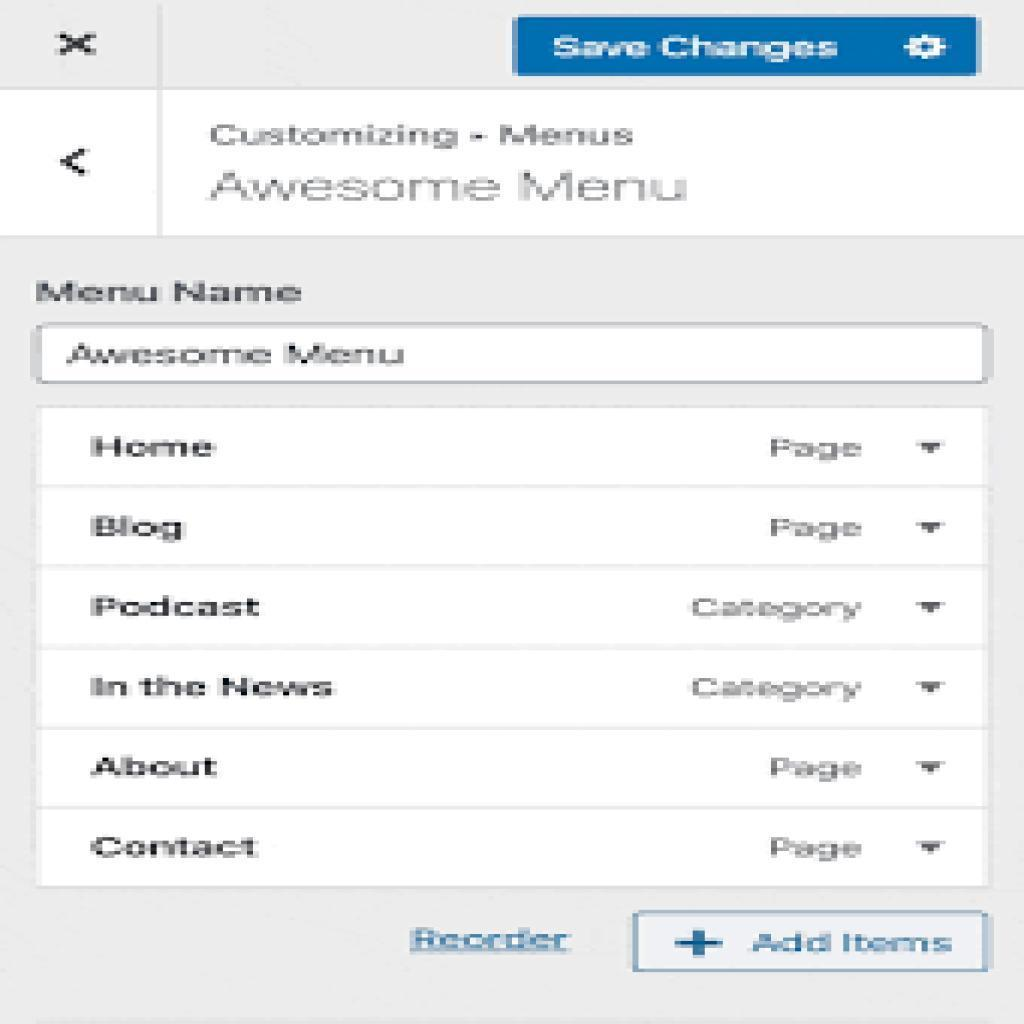button: (517, 15, 980, 77), (637, 914, 986, 970)
icon: (48, 142, 103, 189), (52, 28, 107, 64), (911, 435, 952, 470), (918, 754, 951, 789), (913, 596, 948, 628), (915, 514, 950, 544), (916, 837, 952, 866), (916, 675, 946, 707)
input: (38, 322, 992, 386)
label: (404, 922, 578, 960)
